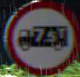Heavy Vehicles: (5, 0, 79, 75)
